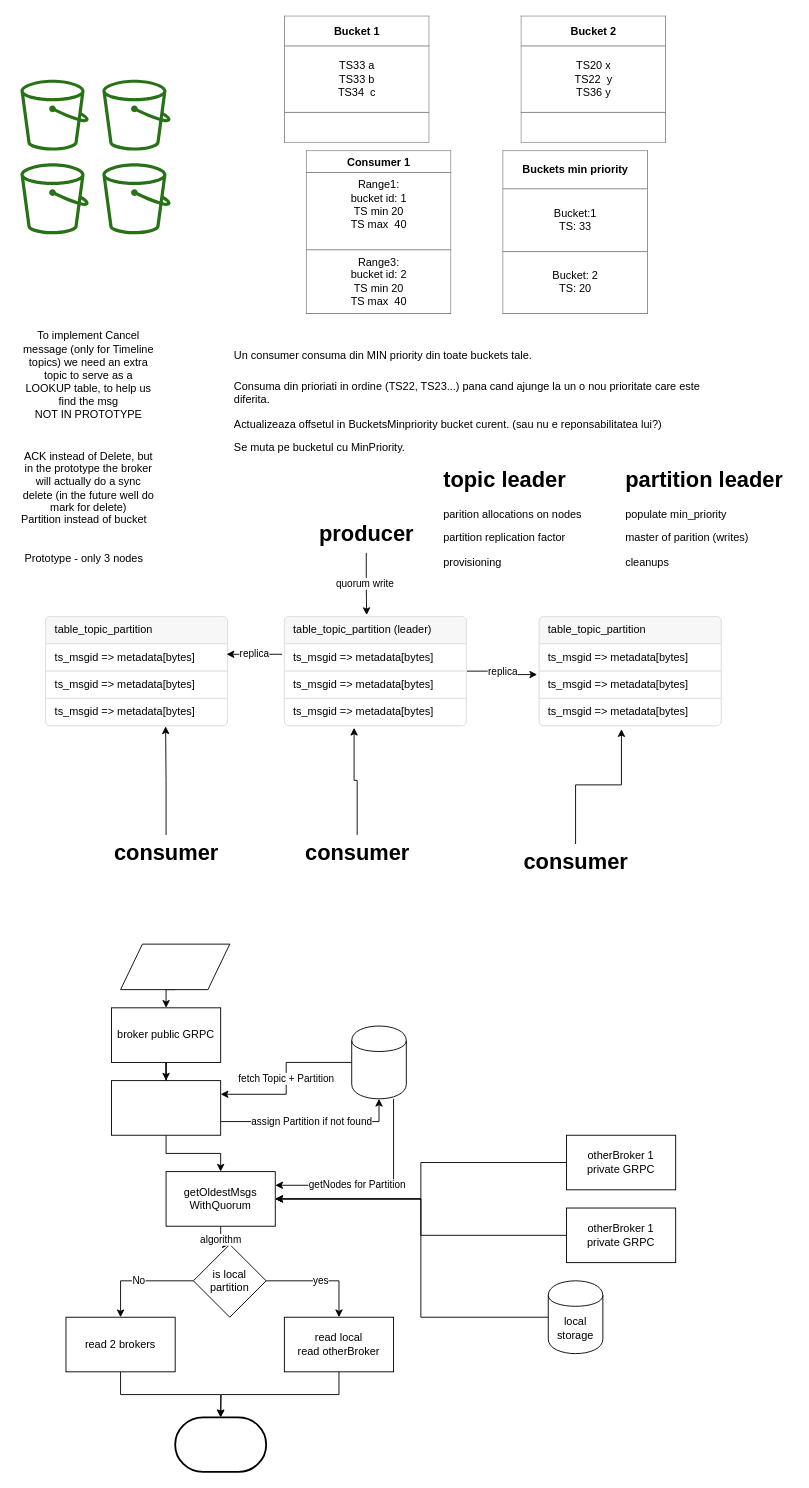
Some shapes in this 809 by 1488 pixel diagram are drawn without their labels. Here are the shapes that lost their labels. From the top down, the box of each, then its label:
(120, 943, 230, 990): consumer GET
(351, 1025, 406, 1099): cluster metadata
(111, 1080, 221, 1135): storage
(174, 1416, 267, 1472): return results
